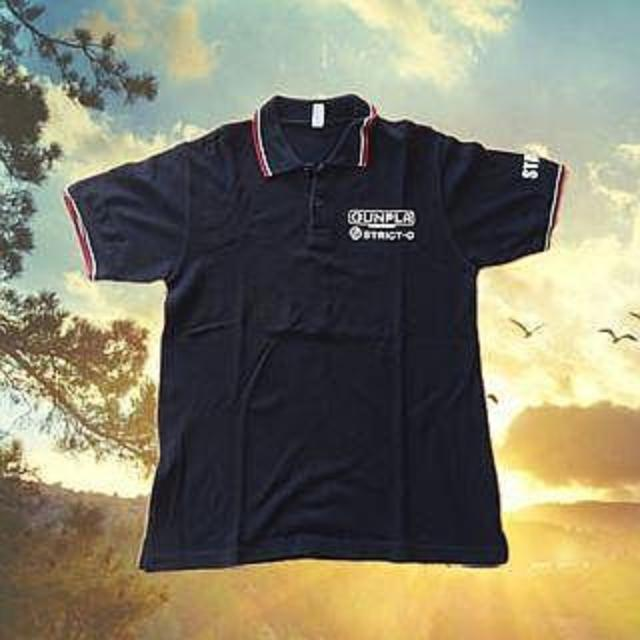T_SHIRT: (55, 82, 585, 578)
